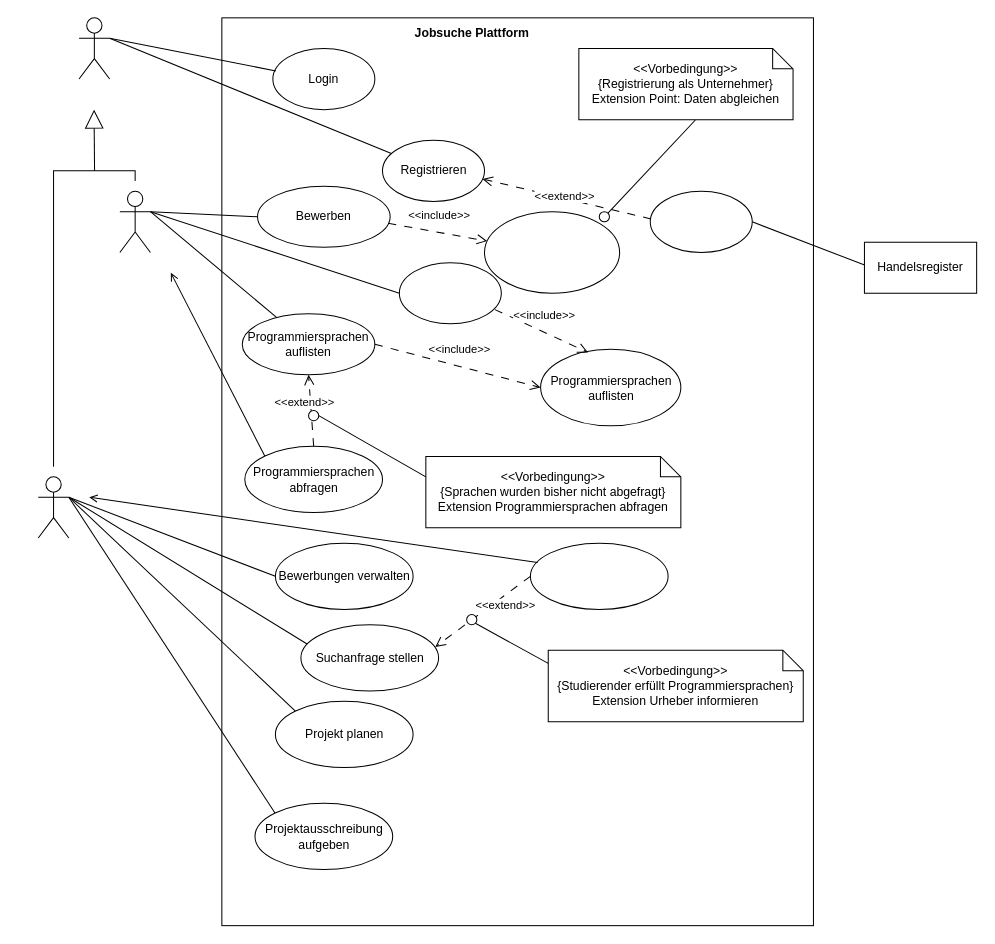
Image size: 995x944. Some labels were removed from this diagram. The centre of each missing label's shape, as x and y in pixels:
Daten abgleichen: point (700, 221)
Liste aktualisieren: point (449, 293)
Projektausschreibung suchen: point (551, 252)
Studierender: point (134, 221)
Unternehmer: point (53, 507)
Urheber informieren: point (598, 575)
User: point (94, 48)
